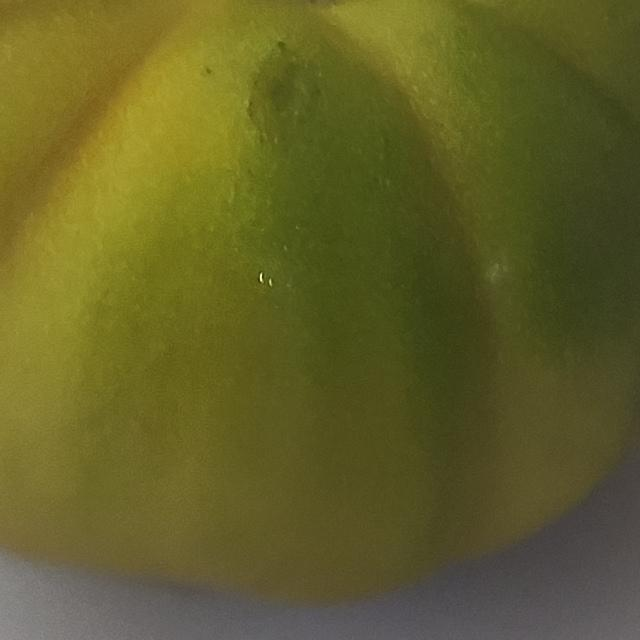tomato: (0, 0, 640, 618)
